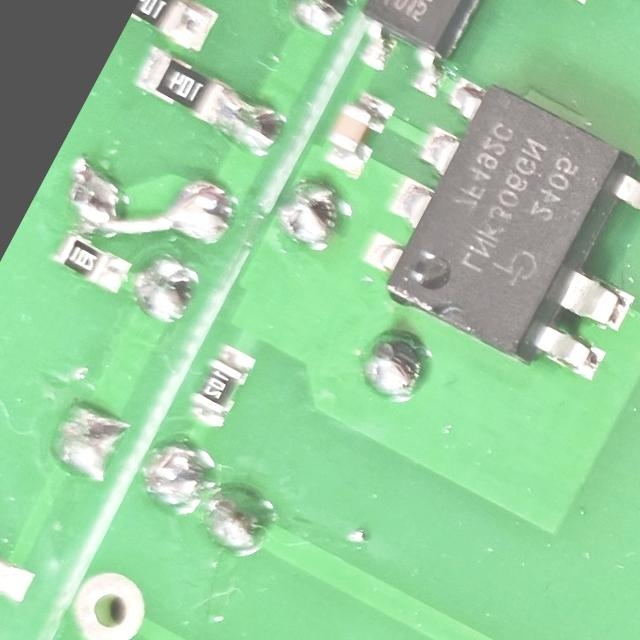chip-capacitor: (315, 81, 400, 181)
chip-resistor: (129, 41, 239, 131), (179, 336, 260, 433), (45, 223, 138, 299), (128, 0, 223, 58)
ic: (347, 58, 640, 406), (0, 471, 54, 640)
